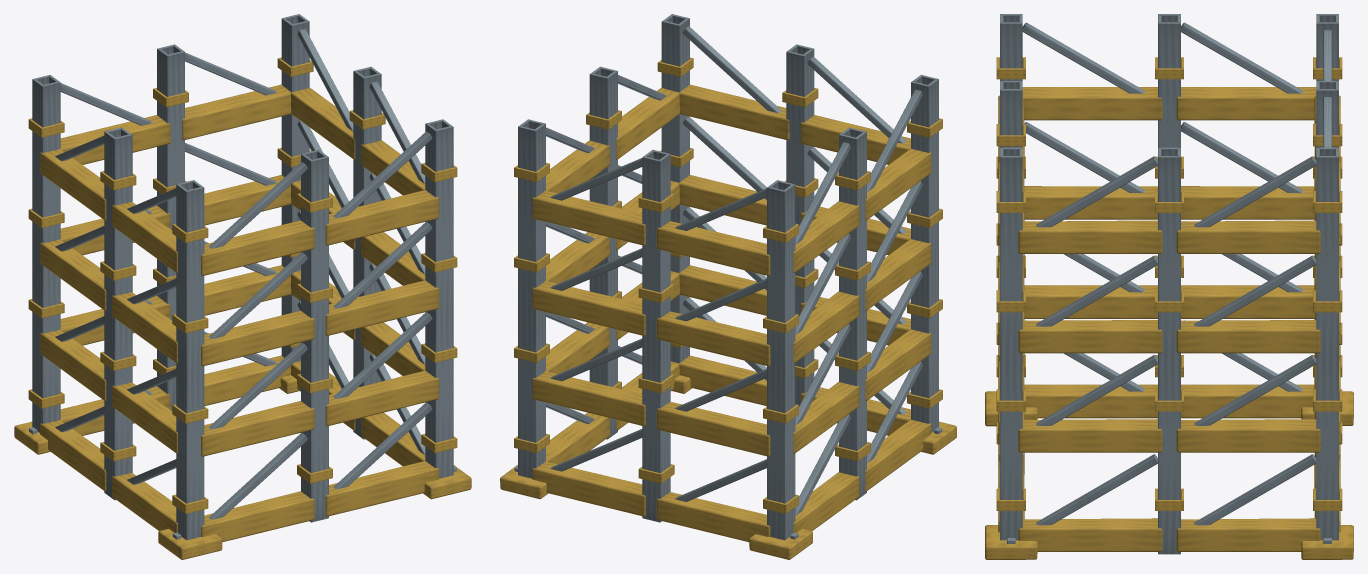
3 views of the same model, side by side, from view 1: azimuth 30°, elevation 25°; view 2: azimuth 150°, elevation 25°; view 3: azimuth 270°, elevation 25° (orthographic). The views are drawn at different scales.
Parts seen in each view (by area): view 1: Tier 0 side 0 post 0, Tier 0 side 1 post 0, Tier 0 side 0 post 1, Tier 0 side 3 post 0, Tier 0 side 3 post 1, Tier 0 side 2 post 1, Tier 0 side 1 post 1, Tier 0 side 2 post 0, Tier 0 bay 0-1-1 service deck, Tier 0 bay 0-2-1 service deck, Tier 0 bay 0-3-1 service deck, Tier 0 bay 0-1-0 service deck (+45 smaller); view 2: Tier 0 side 3 post 0, Tier 0 side 2 post 1, Tier 0 side 2 post 0, Tier 0 side 3 post 1, Tier 0 side 0 post 0, Tier 0 side 0 post 1, Tier 0 side 1 post 1, Tier 0 side 1 post 0, Tier 0 bay 2-2-1 service deck, Tier 0 bay 2-3-1 service deck, Tier 0 bay 2-1-1 service deck, Tier 0 bay 2-2-0 service deck (+47 smaller); view 3: Tier 0 side 1 post 0, Tier 0 side 2 post 0, Tier 0 side 1 post 1, Tier 0 bay 1-2-1 service deck, Tier 0 bay 1-2-0 service deck, Tier 0 bay 1-1-1 service deck, Tier 0 bay 1-1-0 service deck, Tier 0 bay 1-3-1 service deck, Tier 0 bay 1-3-0 service deck, Tier 0 bay 3-3-1 service deck, Tier 0 bay 3-3-0 service deck, Tier 0 bay 1-0-1 service deck (+34 smaller).
Boxes of the visible parts, x1,y1,x2,y2 form: Tier 0 side 0 post 0: (176, 180, 204, 540); Tier 0 side 1 post 0: (425, 119, 453, 478); Tier 0 side 0 post 1: (301, 149, 328, 522); Tier 0 side 3 post 0: (32, 75, 60, 432); Tier 0 side 3 post 1: (104, 127, 132, 500); Tier 0 side 2 post 1: (157, 44, 184, 410); Tier 0 side 1 post 1: (353, 66, 381, 439); Tier 0 side 2 post 0: (281, 14, 309, 362); Tier 0 bay 0-1-1 service deck: (325, 370, 439, 426); Tier 0 bay 0-2-1 service deck: (325, 280, 439, 335); Tier 0 bay 0-3-1 service deck: (325, 190, 439, 245); Tier 0 bay 0-1-0 service deck: (201, 401, 314, 456); Tier 0 side 3 post 0: (767, 180, 795, 540); Tier 0 side 2 post 1: (642, 149, 670, 522); Tier 0 side 2 post 0: (518, 119, 545, 478); Tier 0 side 3 post 1: (839, 127, 866, 500); Tier 0 side 0 post 0: (911, 74, 938, 432); Tier 0 side 0 post 1: (786, 44, 814, 405); Tier 0 side 1 post 1: (589, 66, 617, 439); Tier 0 side 1 post 0: (661, 14, 689, 363); Tier 0 bay 2-2-1 service deck: (656, 311, 770, 366); Tier 0 bay 2-3-1 service deck: (656, 221, 770, 275); Tier 0 bay 2-1-1 service deck: (656, 401, 770, 456); Tier 0 bay 2-2-0 service deck: (532, 281, 645, 335); Tier 0 side 1 post 0: (1000, 147, 1022, 540); Tier 0 side 2 post 0: (1316, 147, 1338, 540); Tier 0 side 1 post 1: (1158, 147, 1180, 554); Tier 0 bay 1-2-1 service deck: (1176, 320, 1320, 353); Tier 0 bay 1-2-0 service deck: (1018, 320, 1162, 353); Tier 0 bay 1-1-1 service deck: (1176, 419, 1320, 452); Tier 0 bay 1-1-0 service deck: (1018, 419, 1162, 452); Tier 0 bay 1-3-1 service deck: (1176, 220, 1320, 253); Tier 0 bay 1-3-0 service deck: (1018, 220, 1162, 253); Tier 0 bay 3-3-1 service deck: (1022, 87, 1162, 120); Tier 0 bay 3-3-0 service deck: (1176, 87, 1316, 120); Tier 0 bay 1-0-1 service deck: (1176, 518, 1320, 551).
Bounding box in the file's own units: 1.05 × 1.25 × 1.05.
2 materials, 2 textured.
